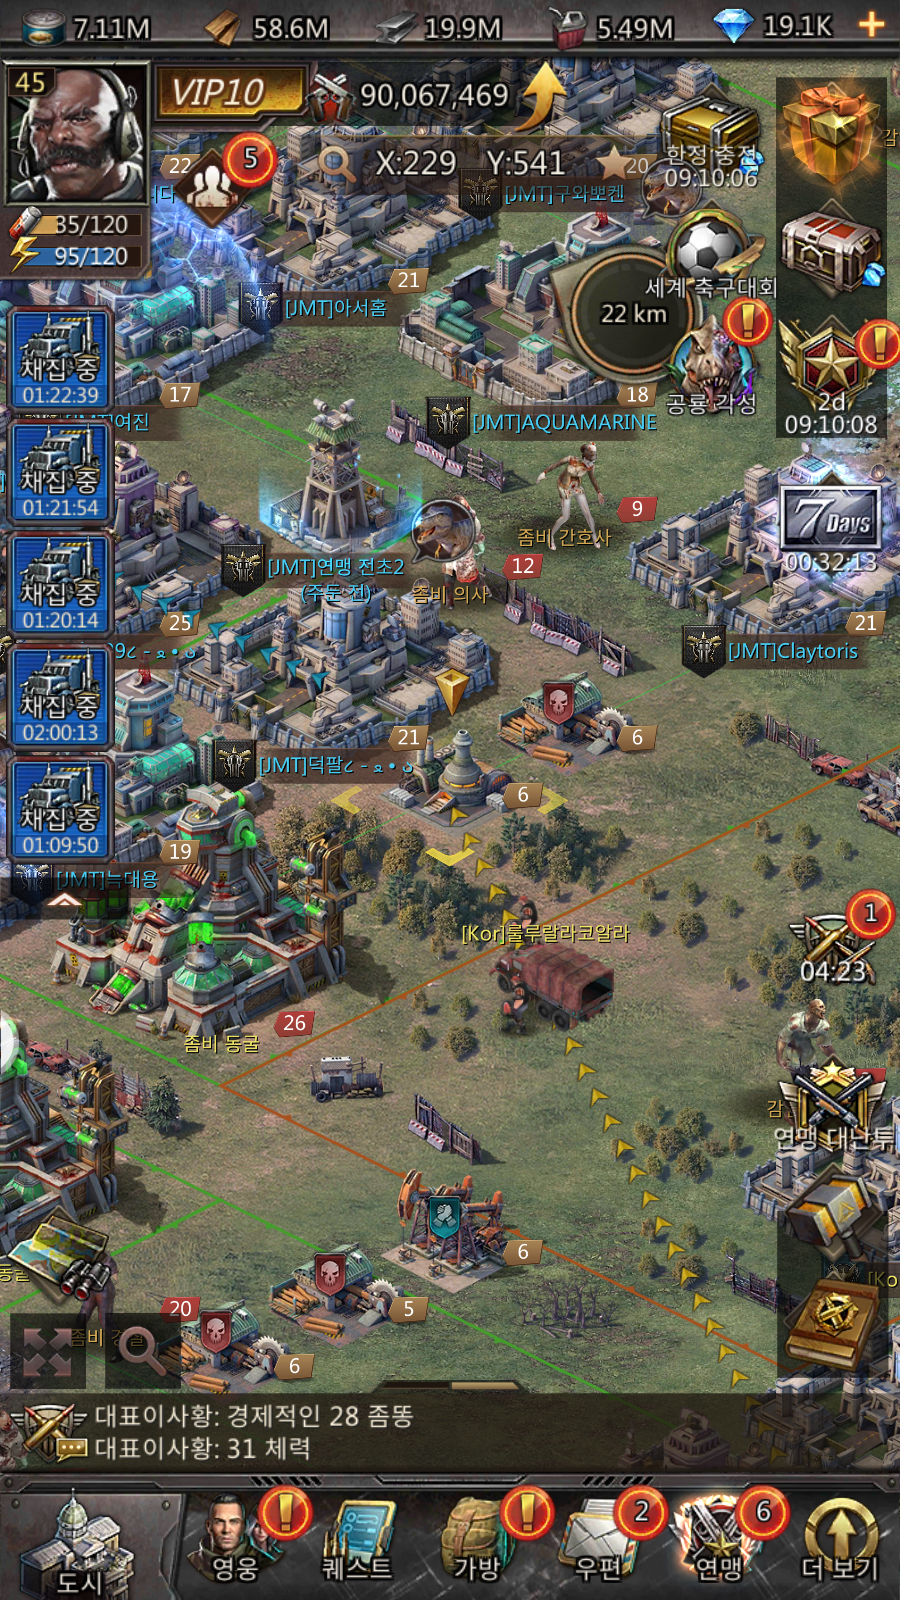city: (14, 1491, 167, 1600)
occupied_steel: (314, 654, 598, 907)
open_panel: (97, 1295, 202, 1400)
troops_cnt_5: (163, 114, 286, 252)
